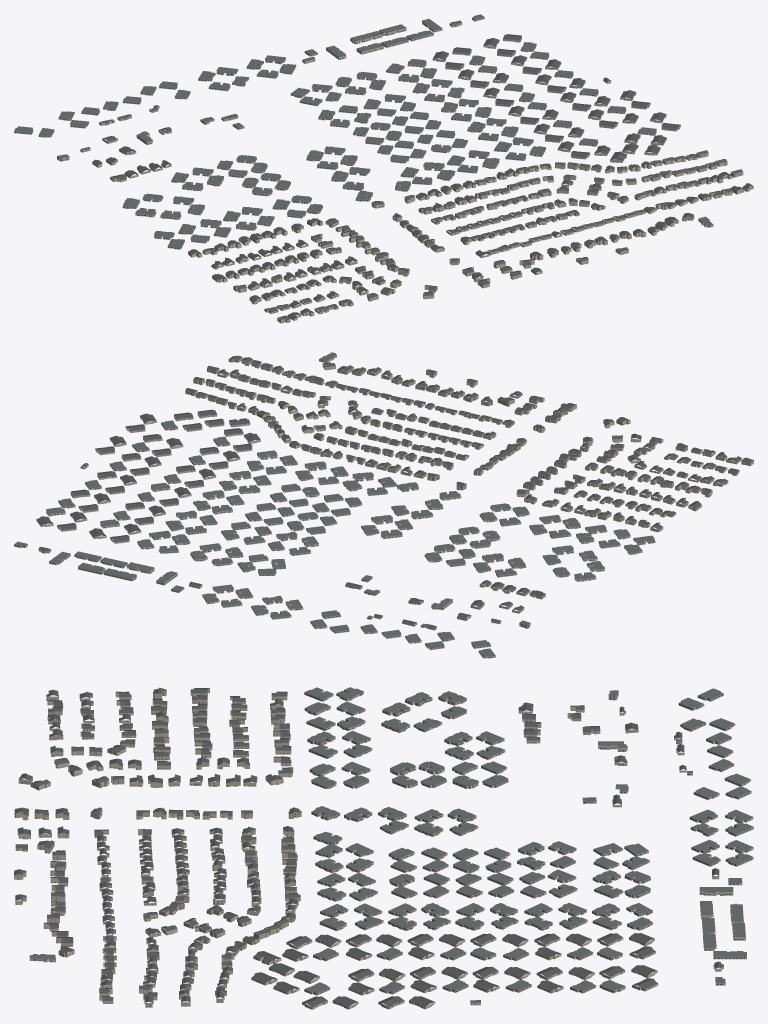
The picture shows the model from 3 angles, top to bottom: view 1: azimuth 30°, elevation 25°; view 2: azimuth 150°, elevation 25°; view 3: azimuth 270°, elevation 25°; orthographic projection. The views are drawn at different scales.
Visible parts, largest first — view 1: Buildings (3, 2) Masonry brick, Buildings (3, 2) Roof membrane, Buildings (3, 2) Roof shingles, Buildings (3, 2) House siding, Buildings (3, 2) Architectural tinted glass, Buildings (3, 2) Metal coping; view 2: Buildings (3, 2) Masonry brick, Buildings (3, 2) Roof membrane, Buildings (3, 2) Roof shingles, Buildings (3, 2) House siding, Buildings (3, 2) Architectural tinted glass, Buildings (3, 2) Metal coping; view 3: Buildings (3, 2) Roof membrane, Buildings (3, 2) Masonry brick, Buildings (3, 2) Roof shingles, Buildings (3, 2) House siding, Buildings (3, 2) Architectural tinted glass, Buildings (3, 2) Metal coping.
Boxes of the visible parts, x1,y1,x2,y2 form: Buildings (3, 2) Masonry brick: (14, 16, 753, 320); Buildings (3, 2) Roof membrane: (14, 14, 712, 247); Buildings (3, 2) Roof shingles: (81, 20, 753, 319); Buildings (3, 2) House siding: (102, 49, 743, 323); Buildings (3, 2) Architectural tinted glass: (14, 18, 751, 321); Buildings (3, 2) Metal coping: (15, 20, 708, 247); Buildings (3, 2) Masonry brick: (14, 355, 741, 658); Buildings (3, 2) Roof membrane: (14, 352, 655, 656); Buildings (3, 2) Roof shingles: (36, 355, 752, 628); Buildings (3, 2) House siding: (70, 367, 753, 626); Buildings (3, 2) Architectural tinted glass: (14, 360, 745, 657); Buildings (3, 2) Metal coping: (16, 354, 653, 656); Buildings (3, 2) Roof membrane: (29, 687, 753, 992); Buildings (3, 2) Masonry brick: (14, 688, 753, 1009); Buildings (3, 2) Roof shingles: (14, 687, 723, 1007); Buildings (3, 2) House siding: (15, 692, 686, 1009); Buildings (3, 2) Architectural tinted glass: (16, 691, 751, 1008); Buildings (3, 2) Metal coping: (30, 687, 753, 992).
Size of the model in its own units: 1030 by 13.4 by 1013.
